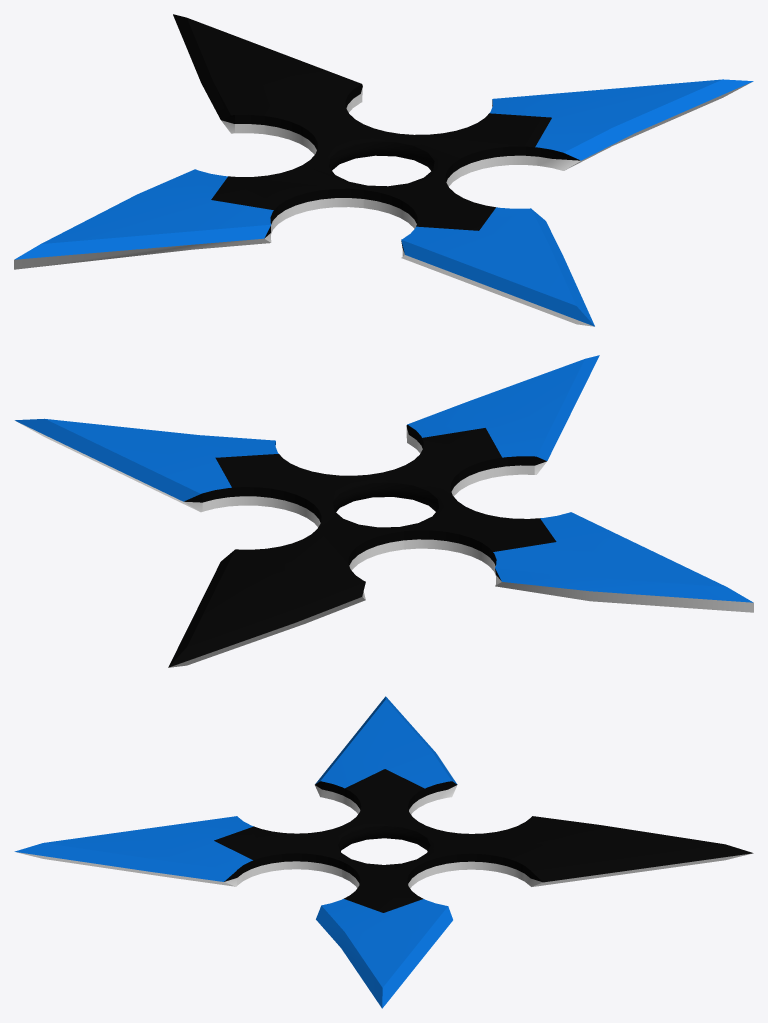
File: Shurikenshi.fbx
The picture shows the model from 3 angles, top to bottom: view 1: azimuth 30°, elevation 25°; view 2: azimuth 150°, elevation 25°; view 3: azimuth 270°, elevation 25°; orthographic projection. The views are drawn at different scales.
Parts seen in each view (by area): view 1: Plane; view 2: Plane; view 3: Plane.
Boxes of the visible parts, box(x1,y1,x2,y2) form: Plane: box(14, 14, 753, 326); Plane: box(14, 355, 753, 667); Plane: box(14, 696, 753, 1008).
Bounding box in the file's own units: 307 × 307 × 9.88.
